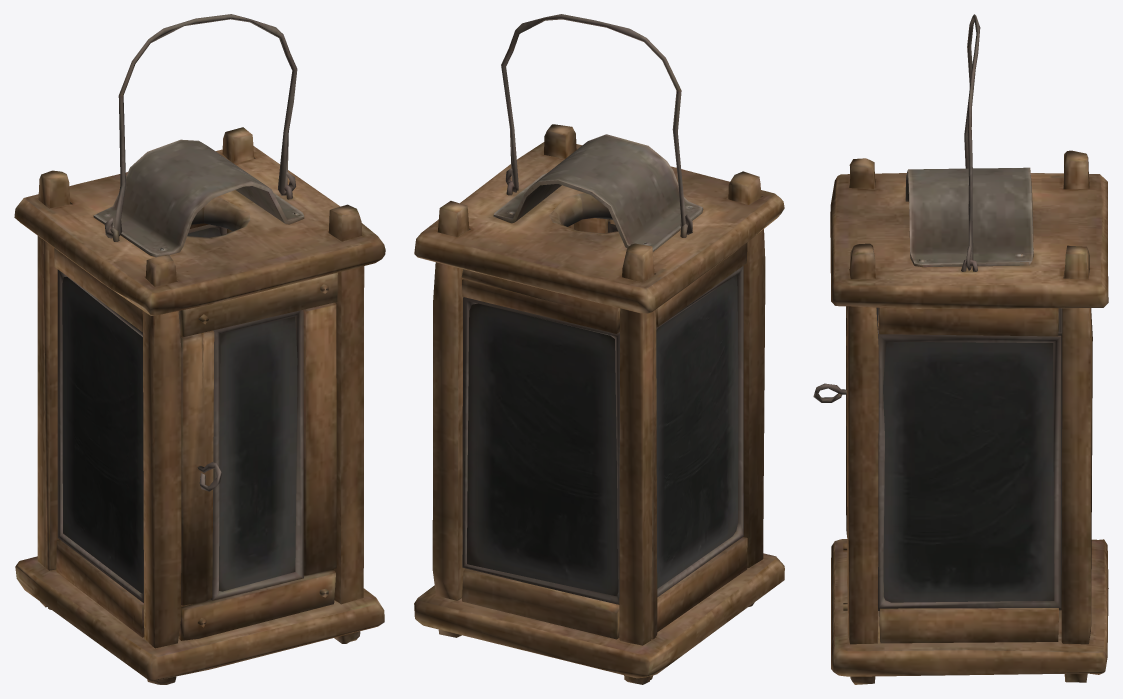
The model's file is ph-wooden_lantern_01.glb.
The picture shows the model from 3 angles, left to right: view 1: azimuth 30°, elevation 25°; view 2: azimuth 150°, elevation 25°; view 3: azimuth 270°, elevation 25°; orthographic projection.
Visible parts, largest first — view 1: wooden_lantern_01; view 2: wooden_lantern_01; view 3: wooden_lantern_01.
Boxes of the visible parts, x1,y1,x2,y2 form: wooden_lantern_01: (14,14,385,684); wooden_lantern_01: (414,14,784,684); wooden_lantern_01: (813,14,1108,684).
Bounding box in the file's own units: 0.221 × 0.5287 × 0.2337.
2 materials, 2 textured.
